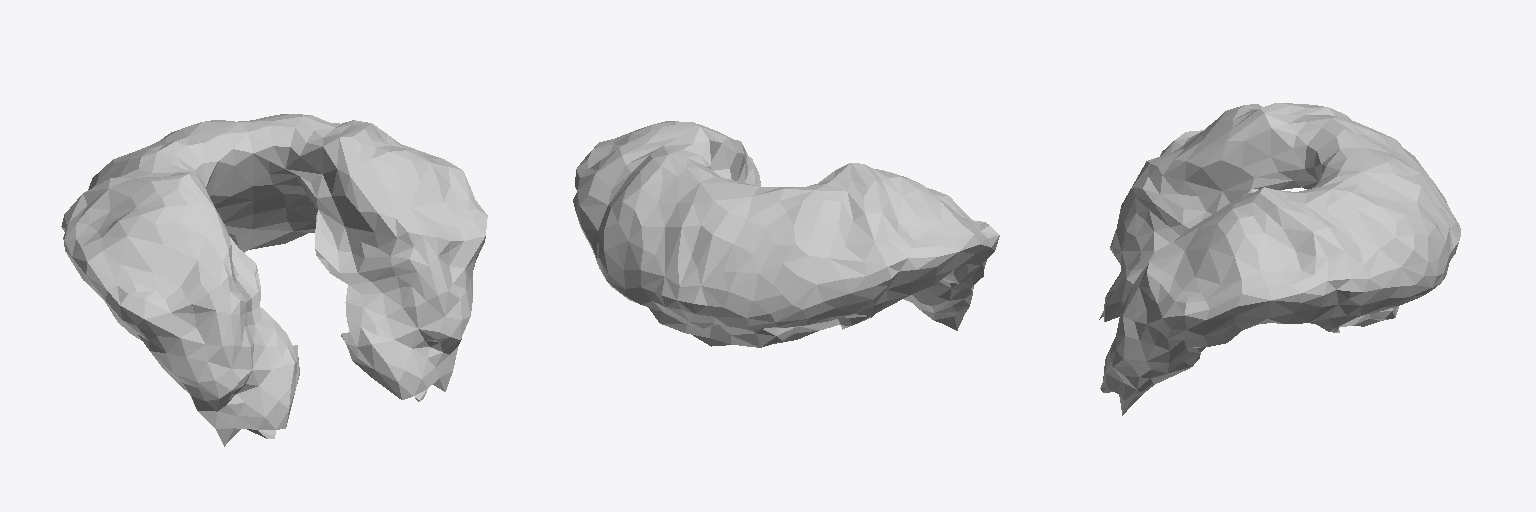
Rendered from Fur.OBJ.
3 renders of one model, left to right at view 1: azimuth 30°, elevation 25°; view 2: azimuth 150°, elevation 25°; view 3: azimuth 270°, elevation 25°, orthographic.
Parts seen in each view (by area): view 1: Group64467; view 2: Group64467; view 3: Group64467.
Boxes of the visible parts, x1,y1,x2,y2 form: Group64467: [61, 114, 487, 446]; Group64467: [573, 121, 999, 347]; Group64467: [1099, 103, 1460, 415].
Bounding box in the file's own units: 52.3 × 27.73 × 42.92.